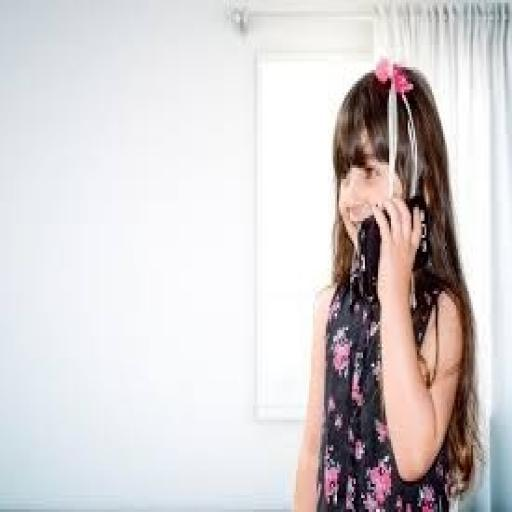calling: (291, 56, 484, 509)
